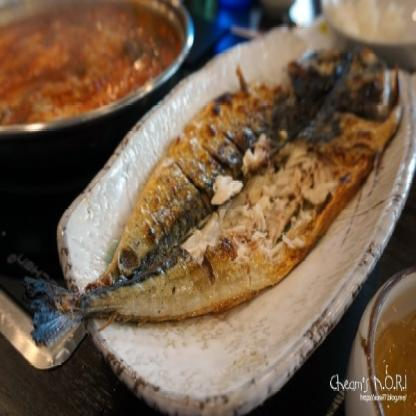Peixe: (23, 27, 410, 347)
